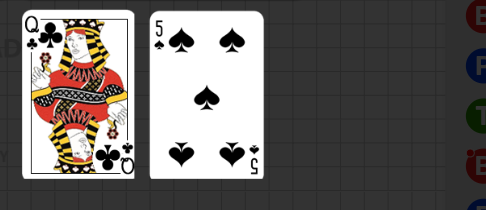5S: (153, 18, 165, 51), (247, 142, 259, 175)
QC: (89, 132, 133, 179), (22, 12, 66, 58)
